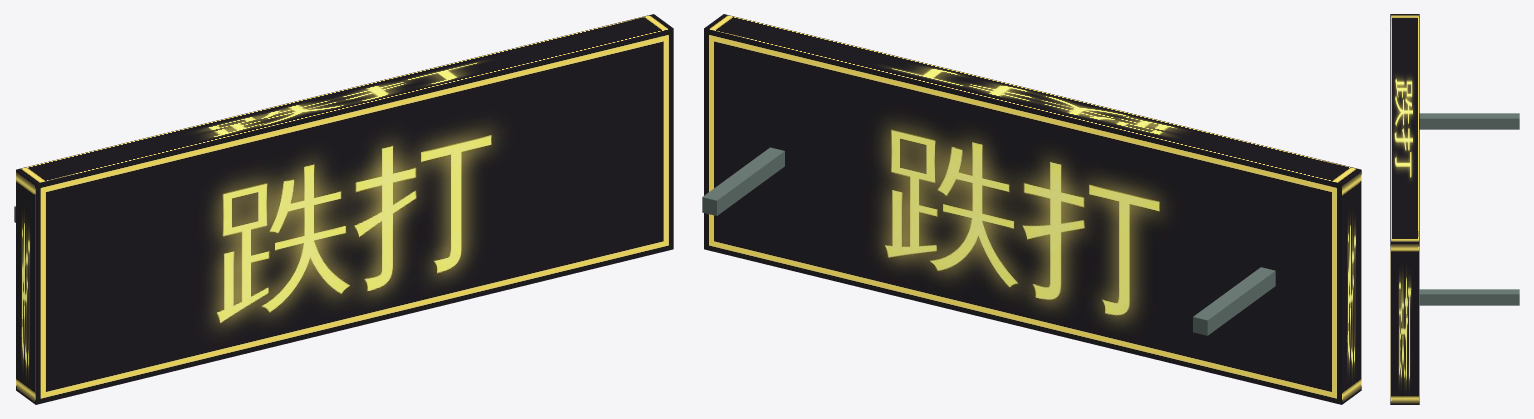
File: sign_9.glb
3 views of the same model, side by side, from view 1: azimuth 30°, elevation 25°; view 2: azimuth 150°, elevation 25°; view 3: azimuth 270°, elevation 25° (orthographic). The views are drawn at different scales.
Parts seen in each view (by area): view 1: sign_9; view 2: sign_9; view 3: sign_9.
Boxes of the visible parts, <box> form: sign_9: <box>14,14,673,404</box>; sign_9: <box>702,14,1361,404</box>; sign_9: <box>1390,14,1519,404</box>.
Size of the model in its own units: 2.6 by 0.86 by 0.62.
2 materials, 1 textured.
